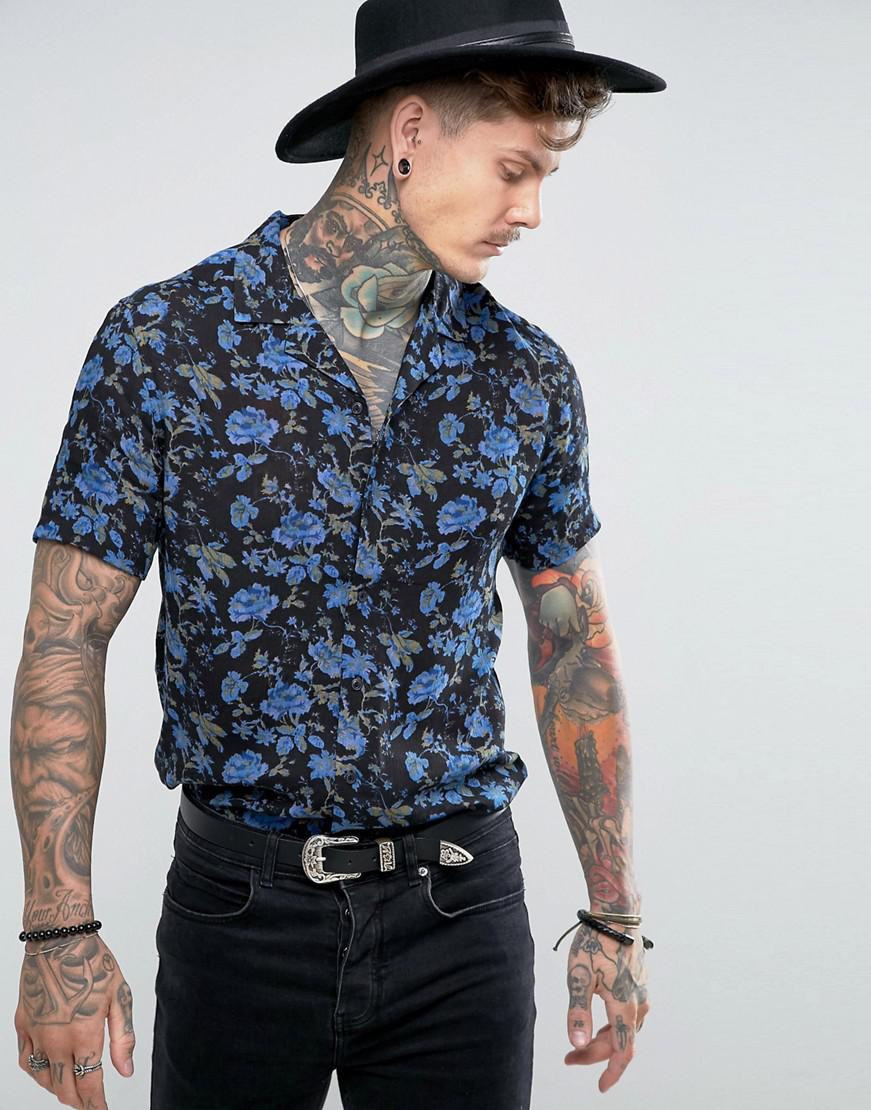teeshirt: (37, 198, 627, 832)
